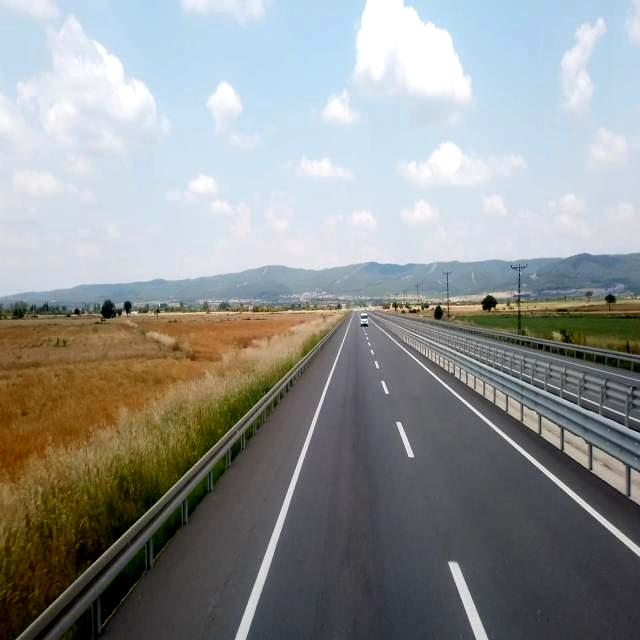road: (99, 313, 639, 639)
